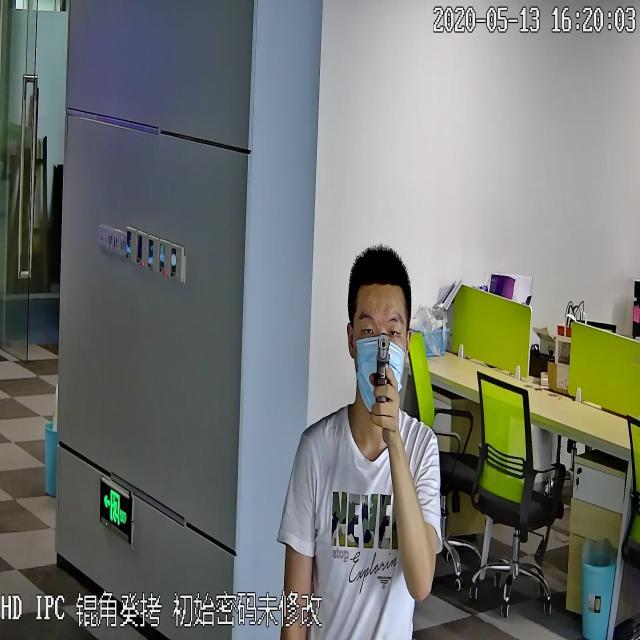gun: (372, 327, 388, 437)
